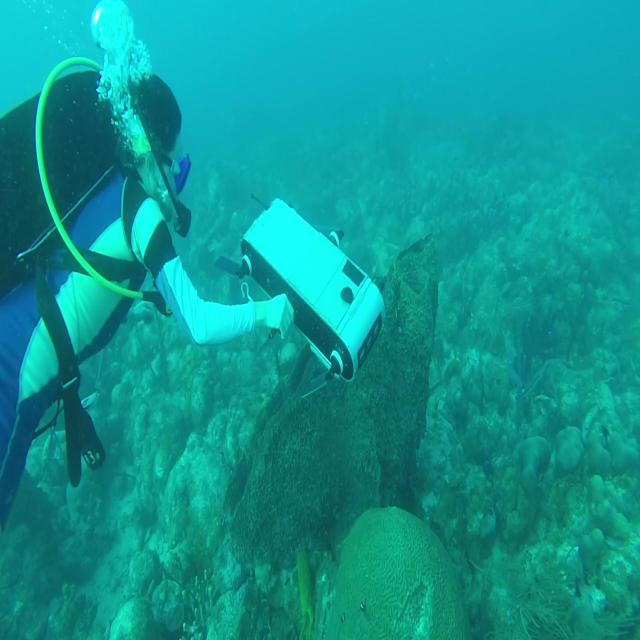human: (0, 4, 295, 534)
